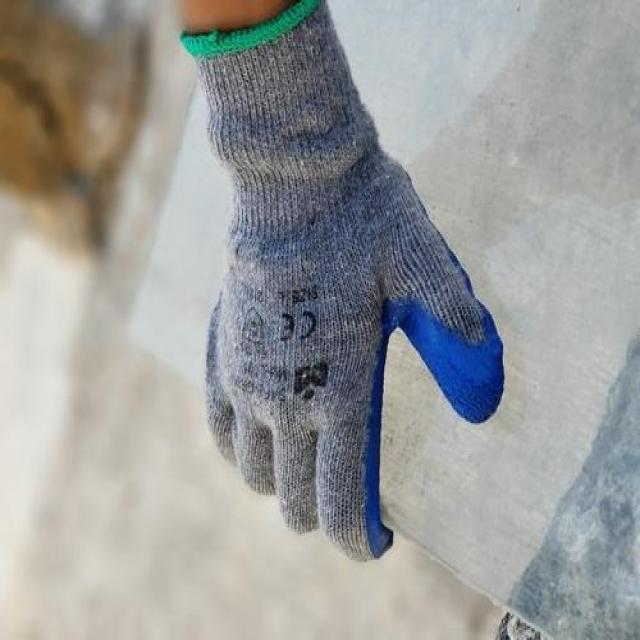gloves: (166, 0, 507, 563)
